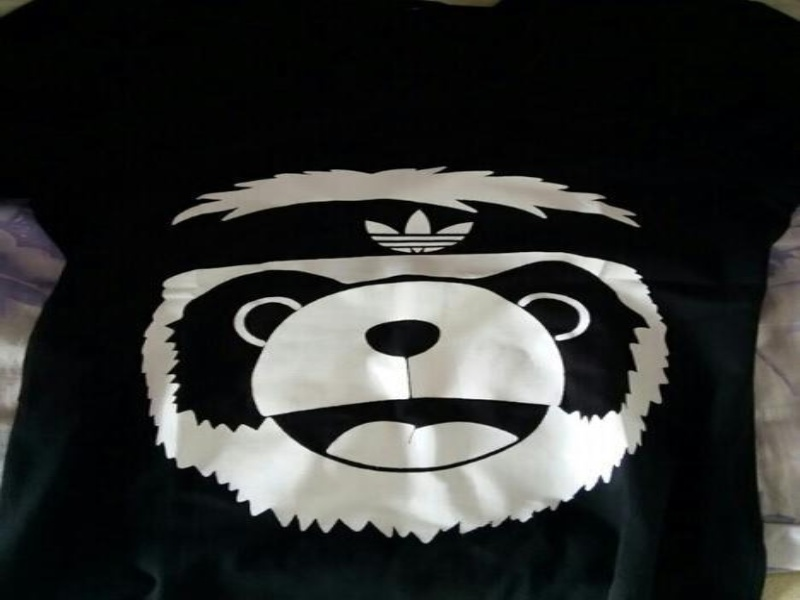short_sleeved_shirt: (5, 1, 798, 599)
